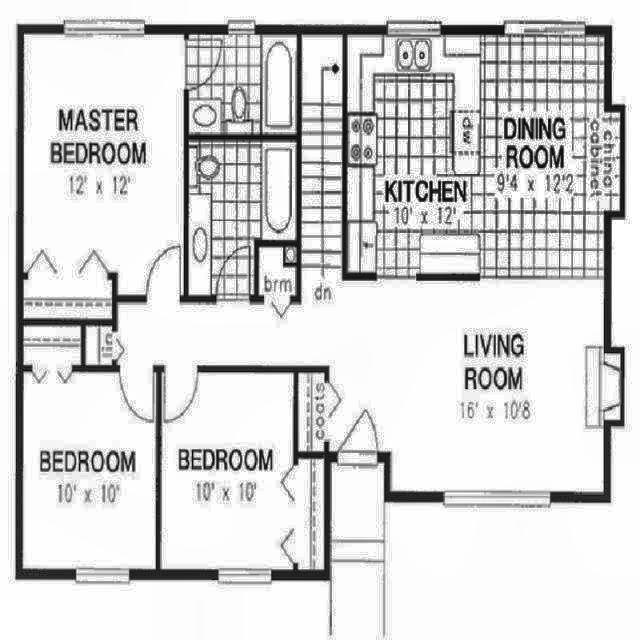room: (119, 34, 621, 492), (22, 33, 185, 320), (162, 372, 326, 570), (22, 373, 157, 568), (188, 141, 297, 296), (189, 35, 296, 134), (301, 36, 342, 277), (24, 327, 81, 366), (299, 374, 324, 450), (260, 248, 296, 296), (86, 327, 112, 364)
